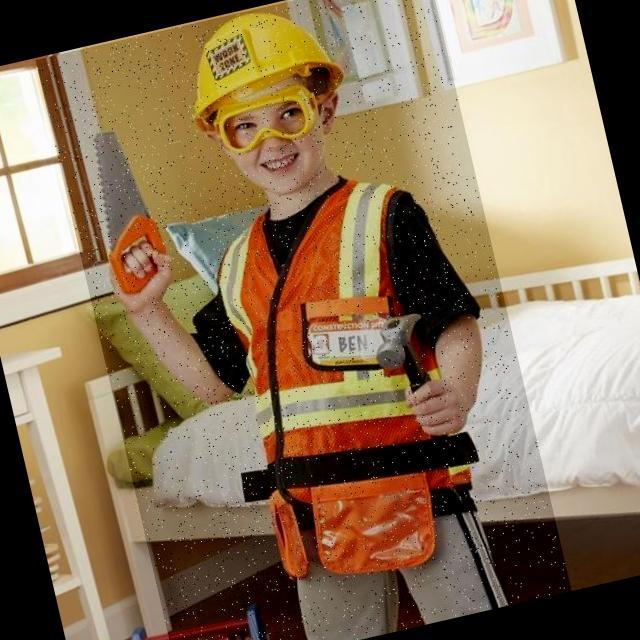Helmet: (171, 0, 357, 137)
Person: (78, 0, 548, 640)
Safety Vest: (203, 171, 492, 592)
bare-arms: (99, 233, 181, 325), (390, 369, 476, 450)
